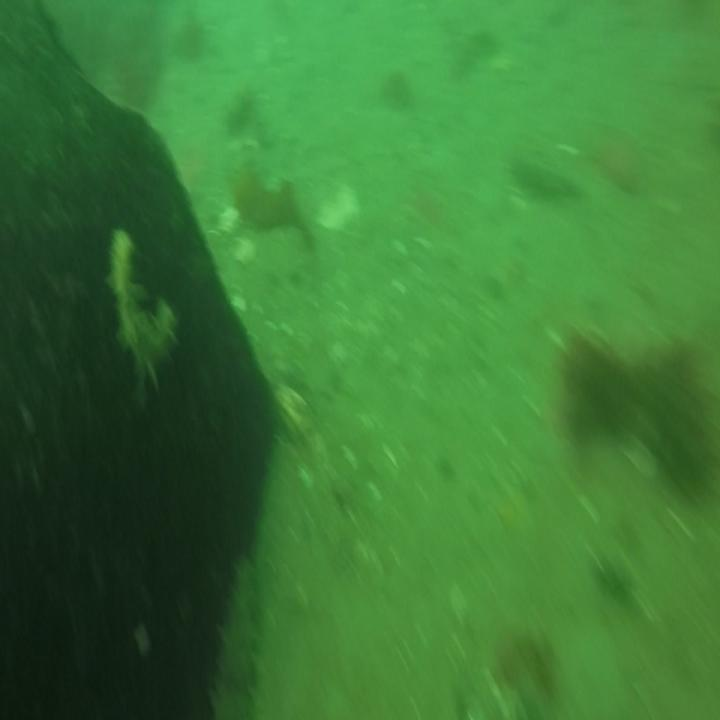holothurian: (105, 232, 177, 392)
